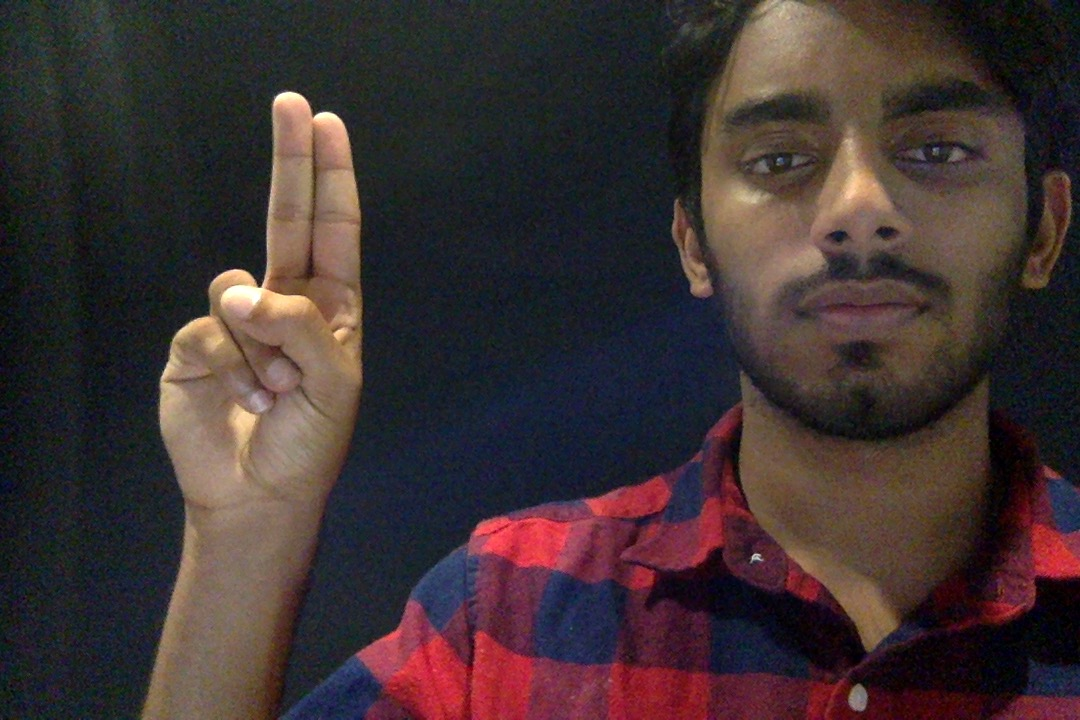u: (129, 60, 397, 590)
